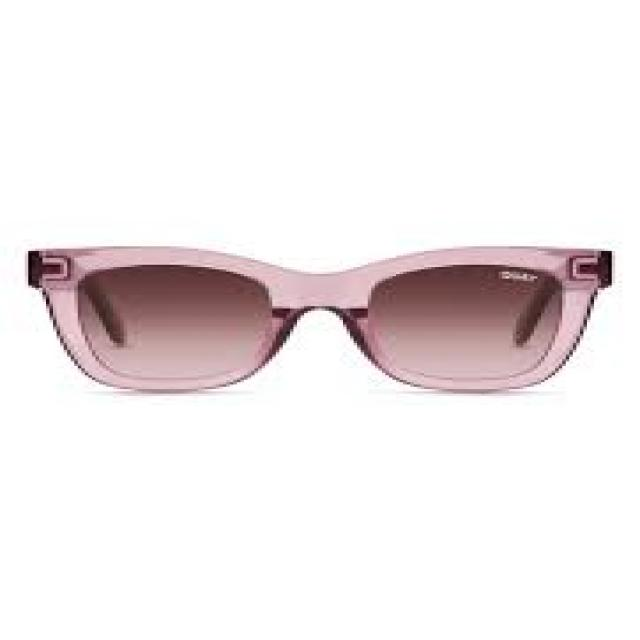suspicious-objects: (21, 246, 605, 407)
